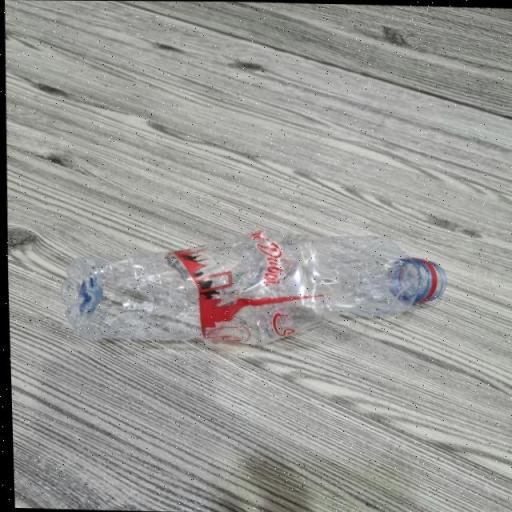plastic: (54, 226, 448, 352)
